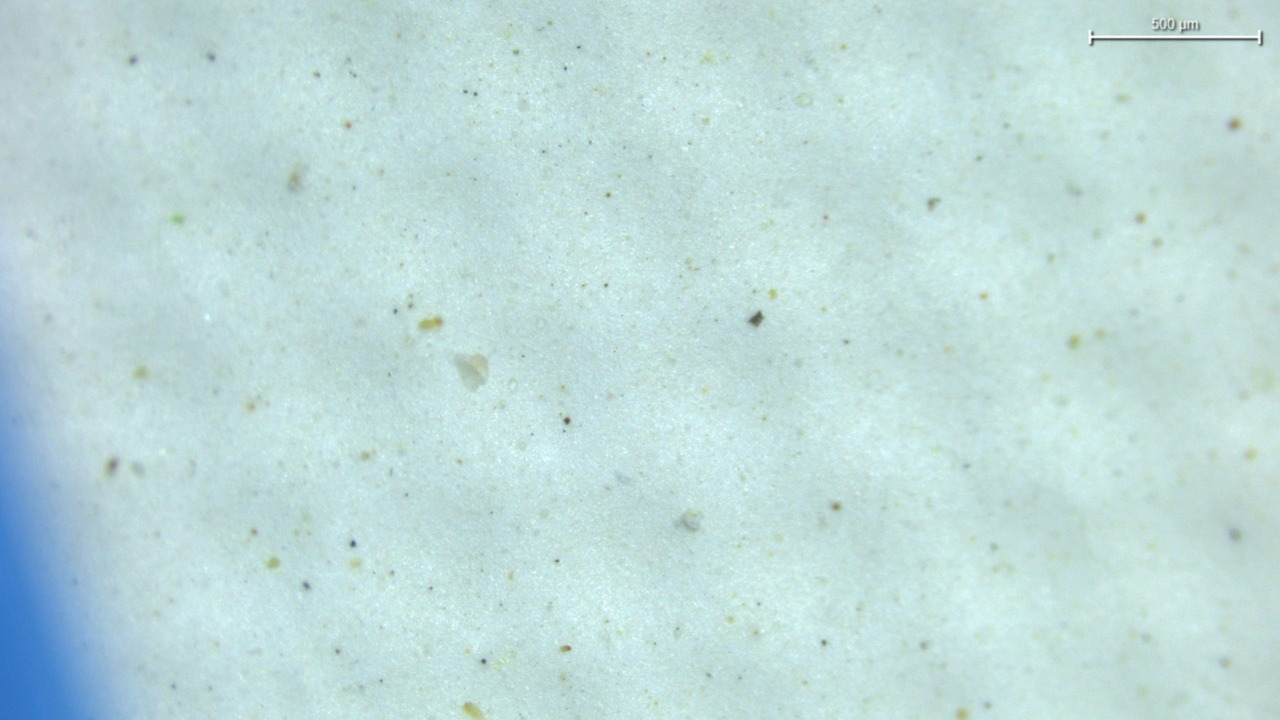microplastic_fragment: (453, 353, 488, 391)
